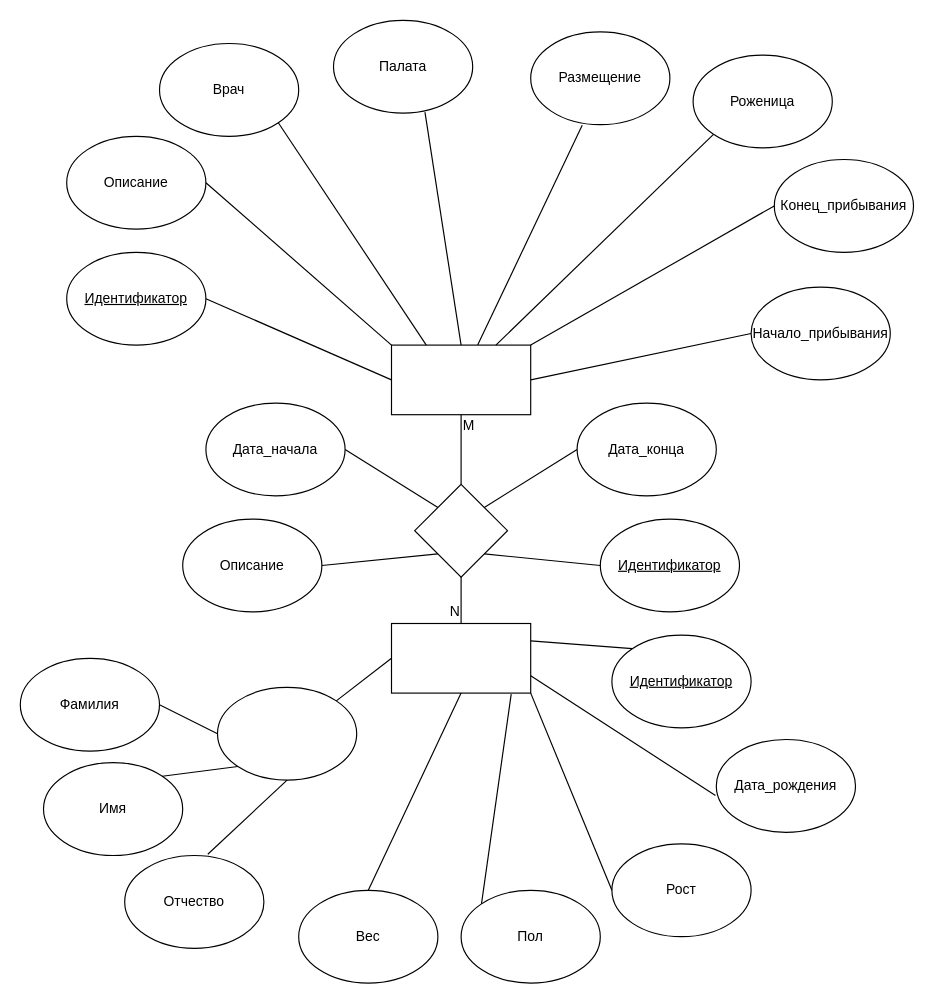
Image size: 934x1003. Some labels were removed from this diagram. The box of each missing label's shape, as (x1, y1, x2, y2) in pixels:
Ребенок: (390, 622, 531, 693)
Роды: (414, 483, 507, 577)
Стационар: (390, 344, 531, 415)
ФИО: (216, 686, 357, 780)
